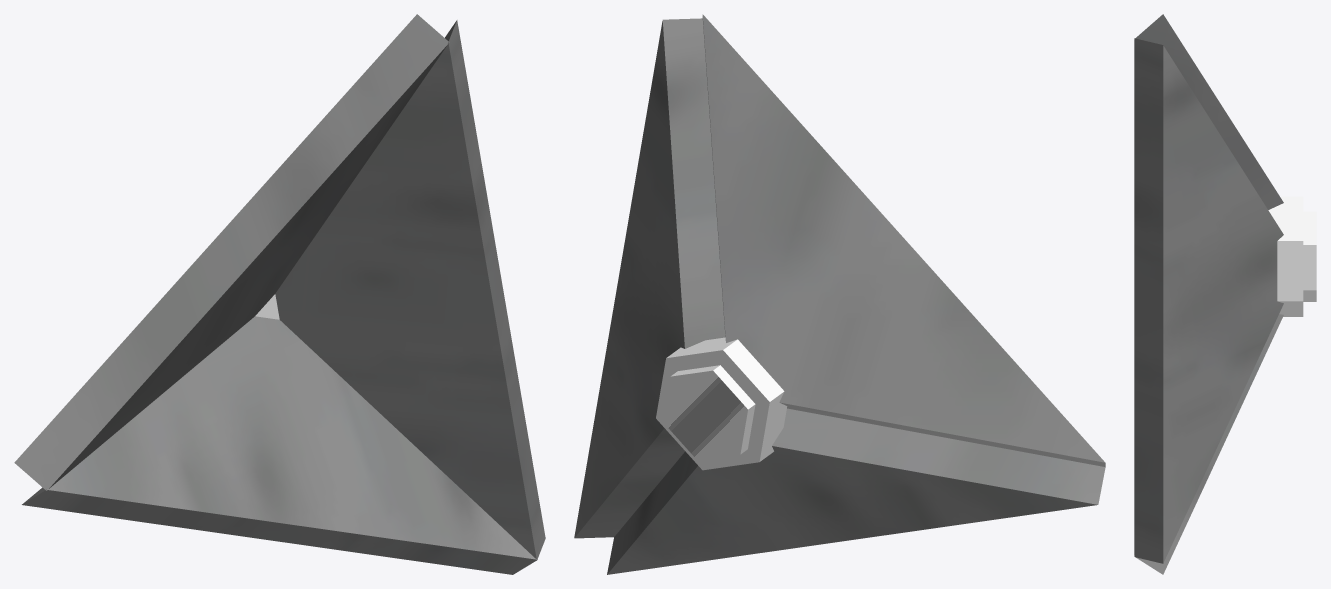
Rendered from haguruma_hontai.obj.
3 views of the same model, side by side, from view 1: azimuth 30°, elevation 25°; view 2: azimuth 150°, elevation 25°; view 3: azimuth 270°, elevation 25° (orthographic). The views are drawn at different scales.
Visible parts, largest first — view 1: group2 group1 pCube3, pCube2 group2 group1, group2 group1 pCube1; view 2: group2 group1 pCube1, pCube2 group2 group1, group2 group1 pCube3, group2 group1 pCylinder2, group2 group1 pCylinder1; view 3: group2 group1 pCube3, group2 group1 pCube1, group2 group1 pCylinder1, pCube2 group2 group1, group2 group1 pCylinder2.
Part boxes in pixels (x1,y1,x2,y2): group2 group1 pCube3: [275, 20, 545, 560]; pCube2 group2 group1: [22, 316, 537, 574]; group2 group1 pCube1: [14, 14, 449, 490]; group2 group1 pCube1: [702, 14, 1105, 466]; pCube2 group2 group1: [607, 408, 1105, 574]; group2 group1 pCube3: [574, 18, 725, 538]; group2 group1 pCylinder2: [662, 365, 755, 460]; group2 group1 pCylinder1: [656, 337, 787, 470]; group2 group1 pCube3: [1134, 38, 1283, 563]; group2 group1 pCube1: [1134, 14, 1283, 209]; group2 group1 pCylinder1: [1268, 196, 1303, 316]; pCube2 group2 group1: [1134, 314, 1283, 574]; group2 group1 pCylinder2: [1303, 211, 1316, 301].
Bounding box in the file's own units: 2.62 × 2.76 × 0.8774.
Materials: 2 (2 with a texture image).
